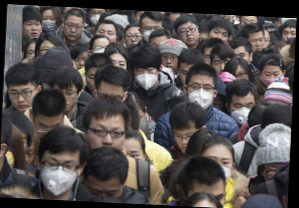with_mask: (40, 155, 79, 198), (185, 81, 215, 112), (202, 154, 232, 183), (228, 98, 255, 126), (131, 66, 158, 92), (139, 24, 161, 43), (260, 69, 282, 88), (40, 14, 57, 33), (87, 9, 105, 26)
without_mask: (84, 121, 125, 153), (6, 85, 33, 112), (30, 119, 62, 141), (170, 129, 198, 154), (83, 70, 111, 94), (52, 87, 78, 112), (176, 23, 200, 47), (61, 19, 82, 41), (21, 19, 41, 39), (160, 53, 179, 73), (210, 57, 229, 76), (122, 31, 142, 49), (247, 35, 265, 54), (208, 28, 229, 44), (94, 28, 116, 43), (281, 27, 296, 43), (73, 55, 87, 70)
